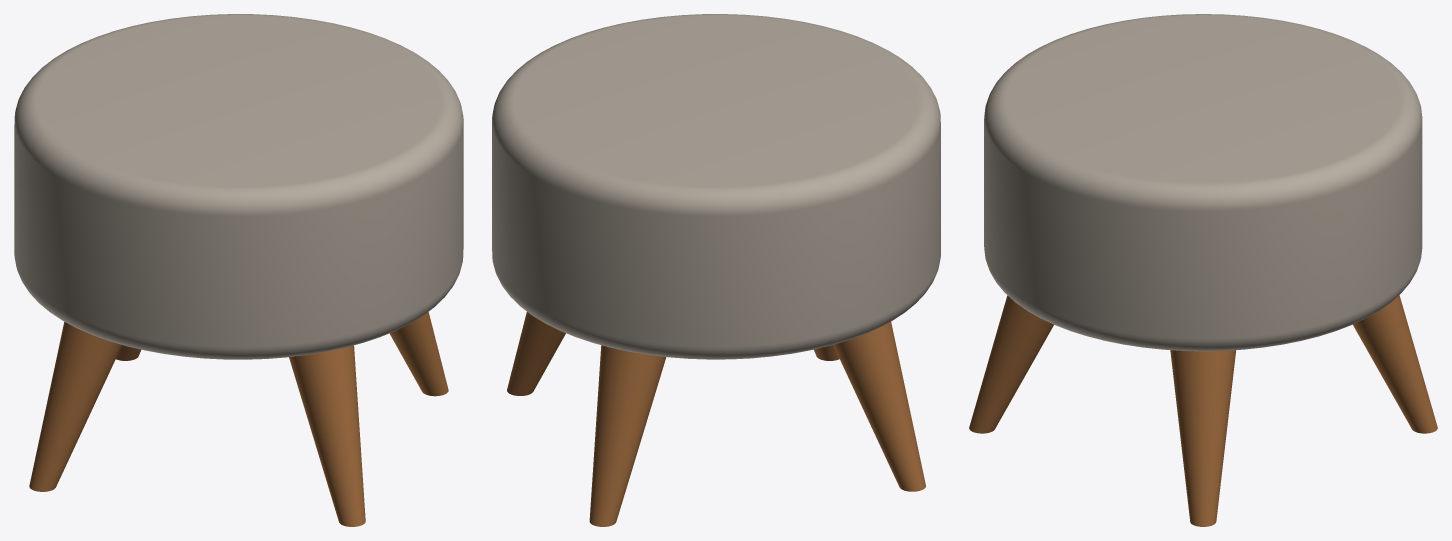
3 renders of one model, left to right at view 1: azimuth 30°, elevation 25°; view 2: azimuth 150°, elevation 25°; view 3: azimuth 270°, elevation 25°, orthographic. The views are drawn at different scales.
Visible parts, largest first — view 1: ottoman; view 2: ottoman; view 3: ottoman.
Part boxes in pixels (x1,y1,x2,y2): ottoman: (14,14,463,526); ottoman: (492,14,940,526); ottoman: (969,14,1437,526).
Bounding box in the file's own units: 0.5 × 0.3871 × 0.5005.
